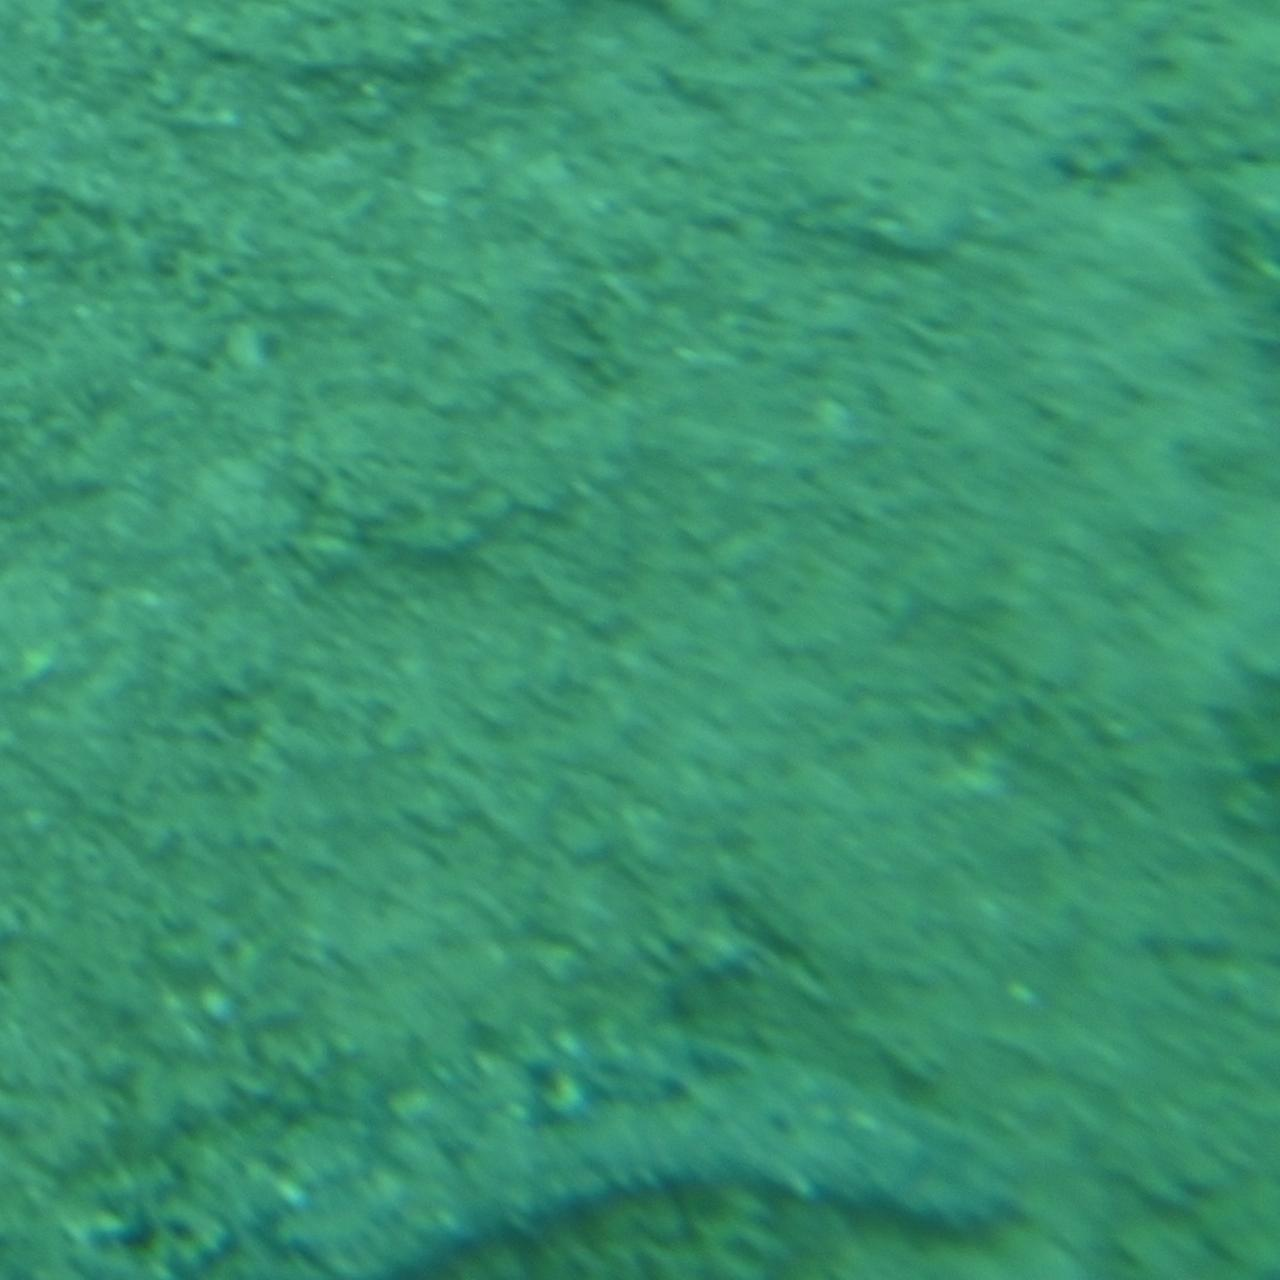Holothuria tubulosa: (215, 1023, 1065, 1280)
